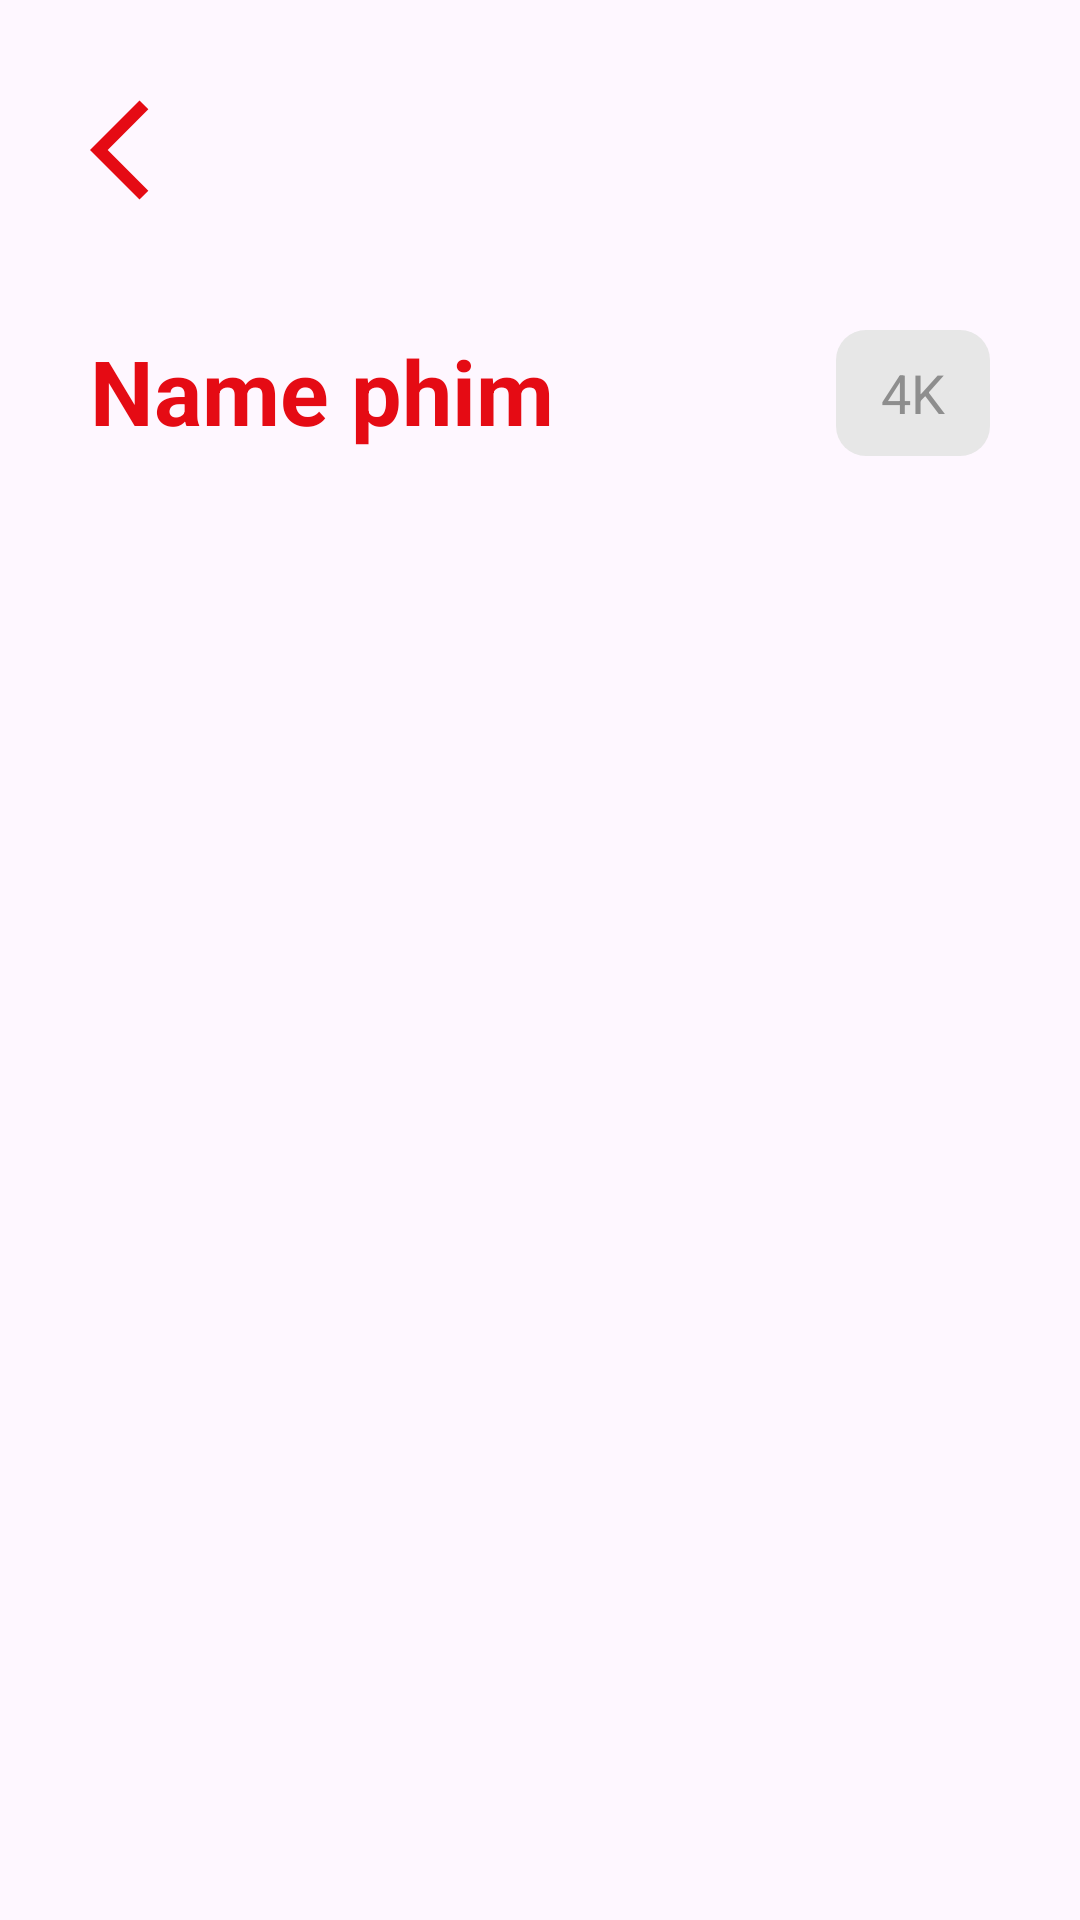

Where icons sit on this 1080*1920 app screen, as (x1, y1, x2, y2):
arrow back: (90, 100, 149, 200)
